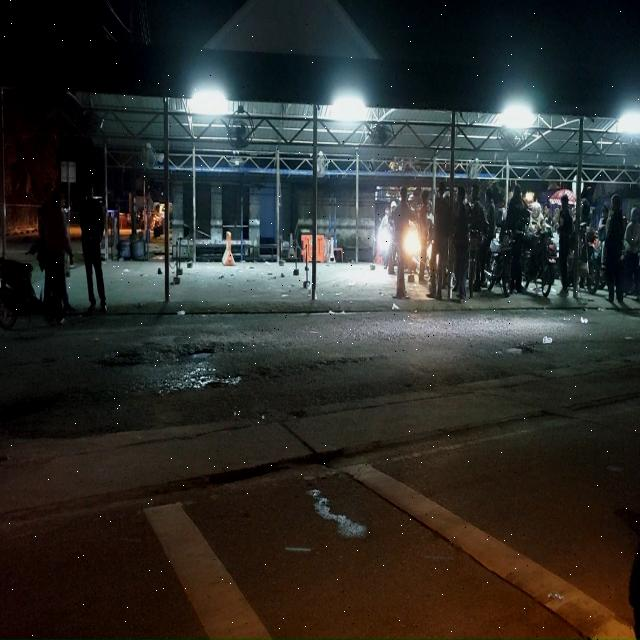Golongan II: (0, 259, 42, 330), (567, 222, 602, 295), (522, 230, 557, 298), (485, 232, 512, 297), (468, 230, 486, 298), (586, 234, 605, 295)
